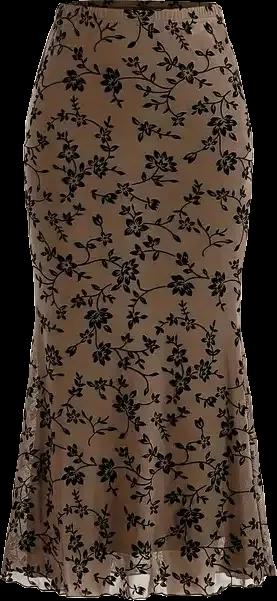Hemline: (0, 570, 275, 600)
Waistline: (55, 0, 218, 13)
